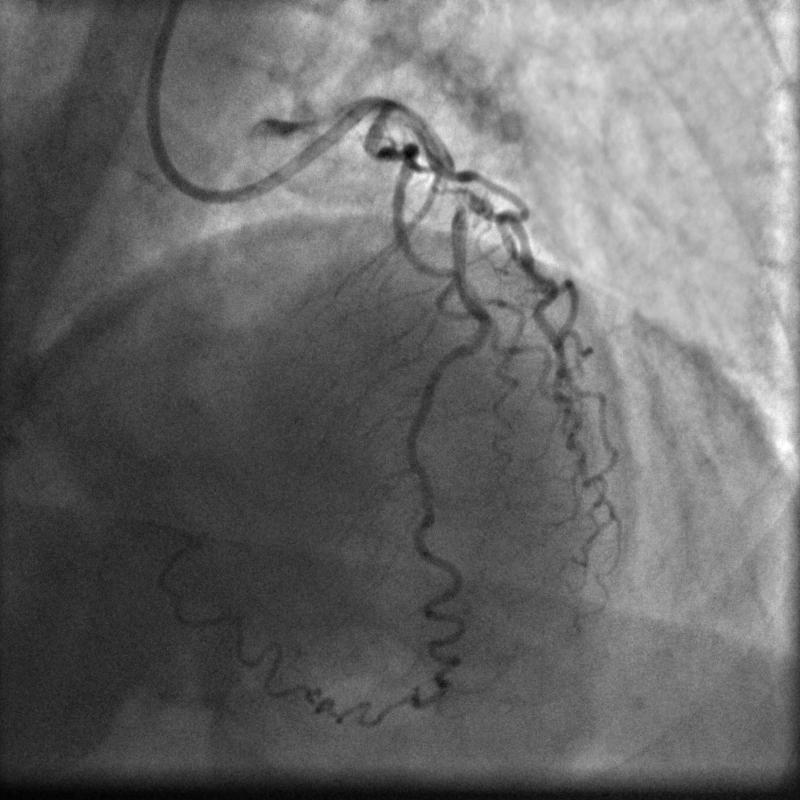Stenosis: (436, 175, 463, 205)
